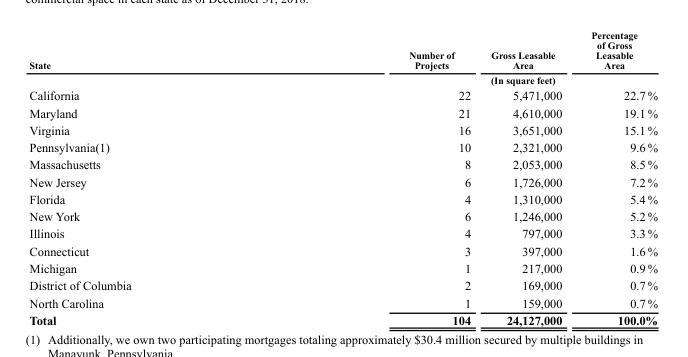table: (28, 29, 656, 326)
table column: (28, 29, 269, 326), (269, 29, 480, 326), (480, 29, 575, 326), (575, 29, 656, 326)
table column header: (28, 29, 656, 86)
table row: (28, 29, 656, 71), (28, 120, 656, 138), (28, 172, 656, 190), (28, 241, 656, 259), (28, 293, 656, 311), (28, 86, 656, 103), (28, 103, 656, 120), (28, 138, 656, 155), (28, 155, 656, 172), (28, 190, 656, 207), (28, 207, 656, 224), (28, 224, 656, 241), (28, 259, 656, 276), (28, 276, 656, 293), (28, 71, 656, 86), (28, 311, 656, 326)
table spanning cell: (28, 29, 269, 86), (269, 71, 656, 86)
